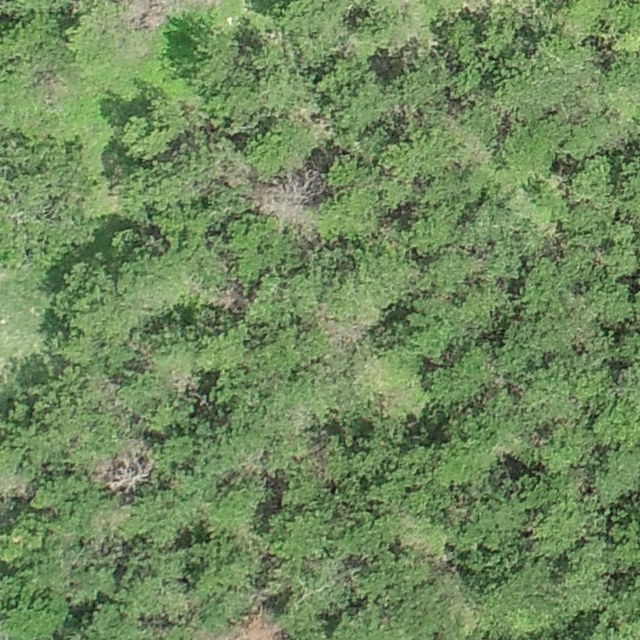unhealthy: (251, 164, 325, 223), (92, 443, 155, 496), (315, 308, 365, 347), (165, 365, 198, 399), (213, 282, 247, 312)
